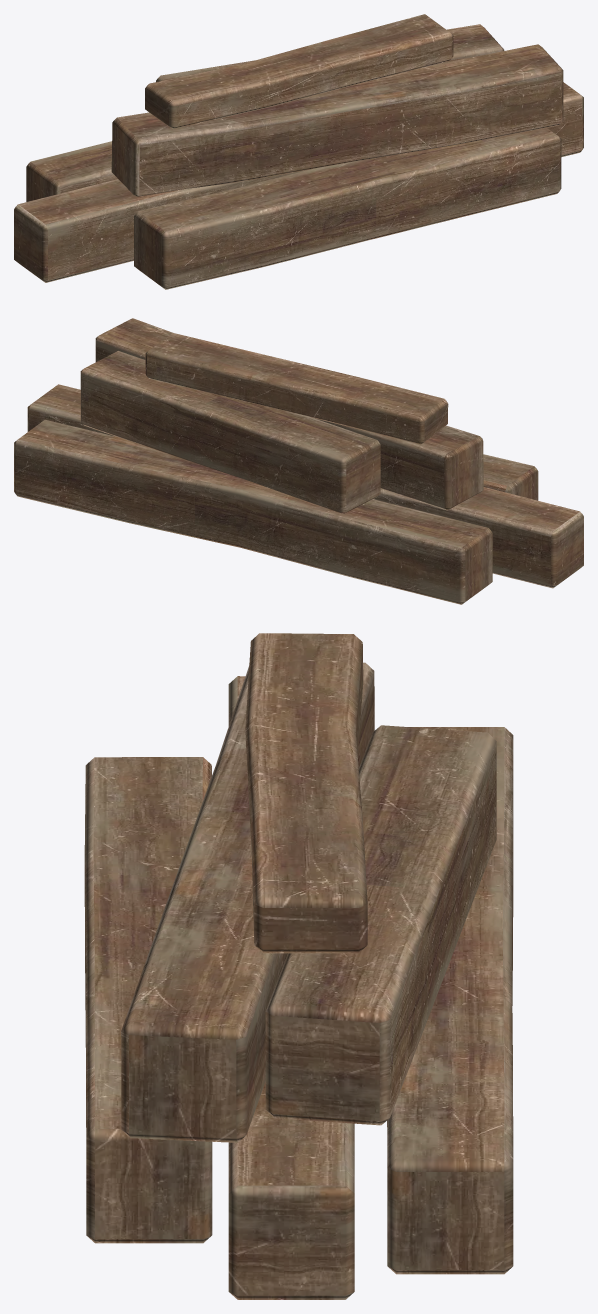
3 views of the same model, one above another, from view 1: azimuth 30°, elevation 25°; view 2: azimuth 150°, elevation 25°; view 3: azimuth 270°, elevation 25° (orthographic). The views are drawn at different scales.
Parts seen in each view (by area): view 1: SM_DR_Wood_Stack_03_LOD0; view 2: SM_DR_Wood_Stack_03_LOD0; view 3: SM_DR_Wood_Stack_03_LOD0.
Boxes of the visible parts, <box> form: SM_DR_Wood_Stack_03_LOD0: <box>14,14,583,289</box>; SM_DR_Wood_Stack_03_LOD0: <box>14,318,583,604</box>; SM_DR_Wood_Stack_03_LOD0: <box>84,633,513,1299</box>.
Bounding box in the file's own units: 4.85 × 1.26 × 1.7.
1 material, 1 textured.
